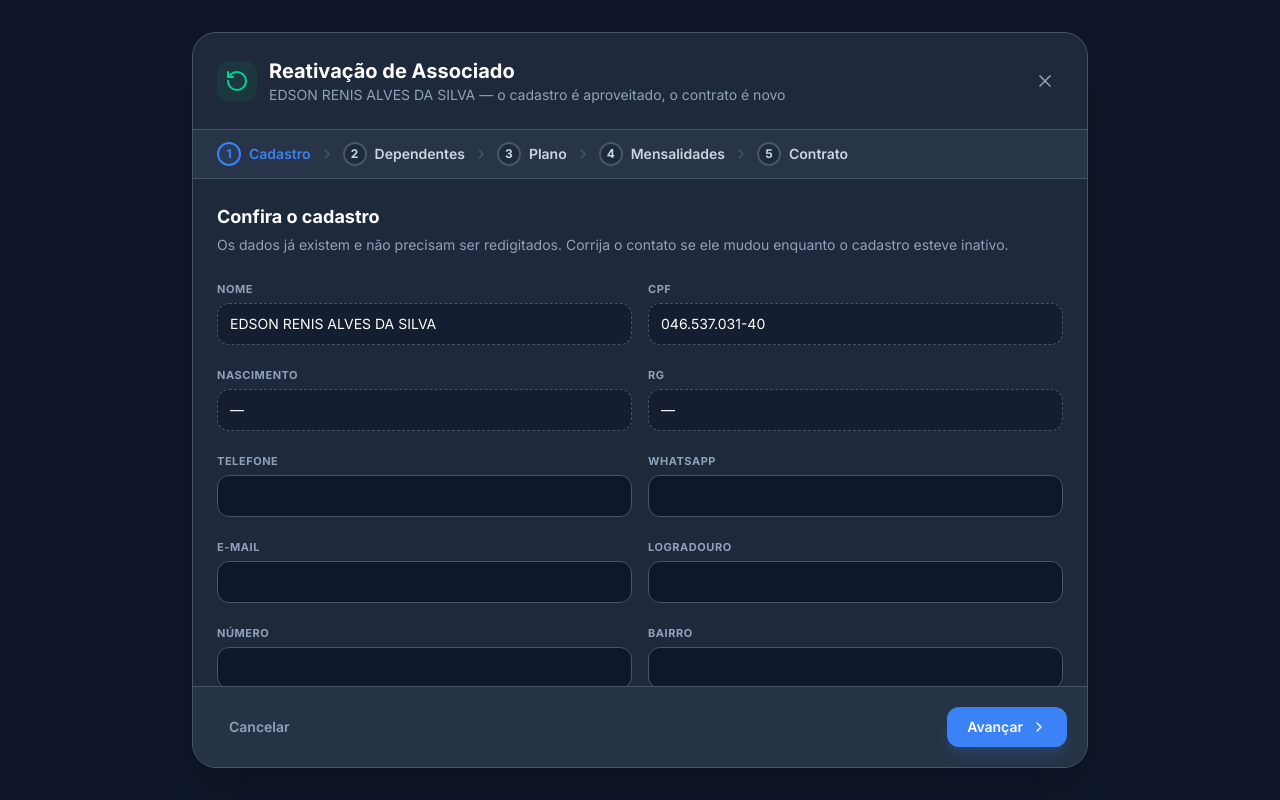
Test: ReativacaoAssociadoWizard — etapa de dependentes › inclui um dependente novo, que passa a contar como vida
Click the button "Avançar" at (1007, 727), box [947,707,1067,747]
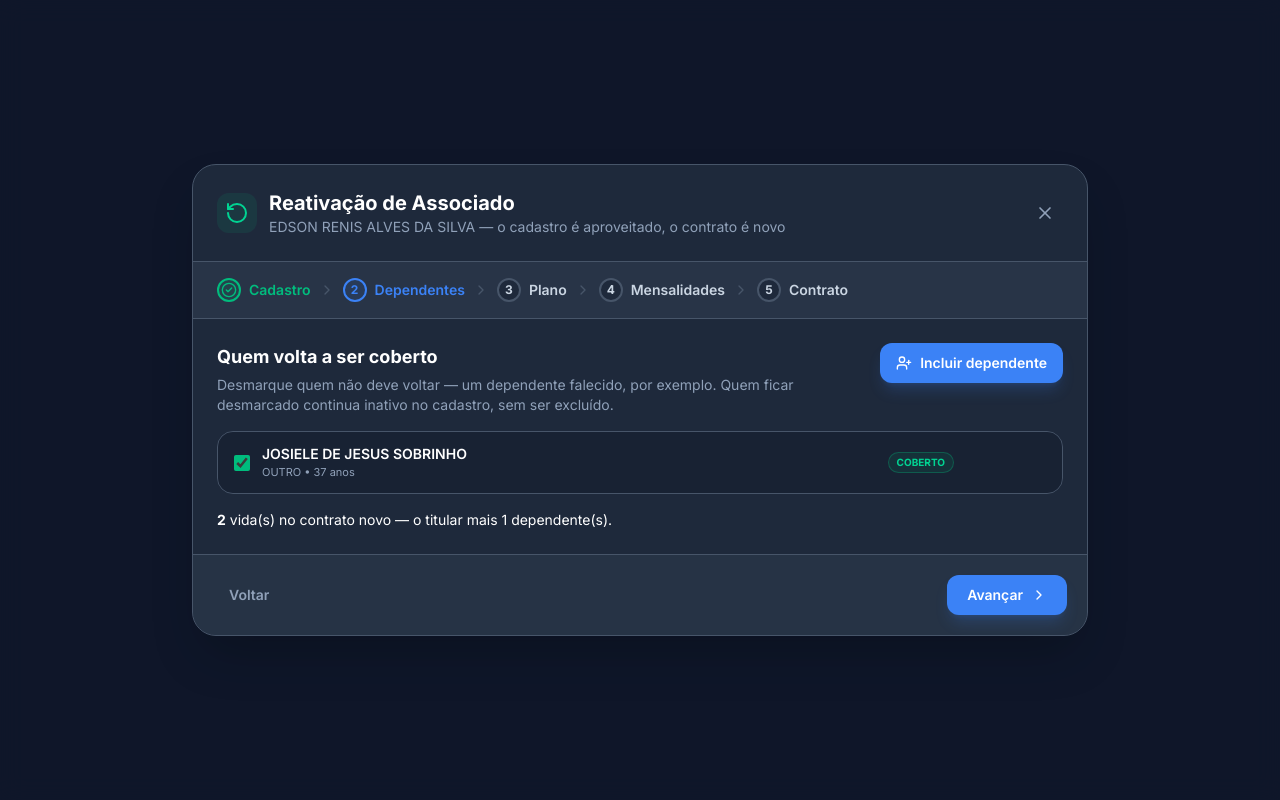
Click the button "Incluir dependente" at (972, 363), box [880,343,1063,383]
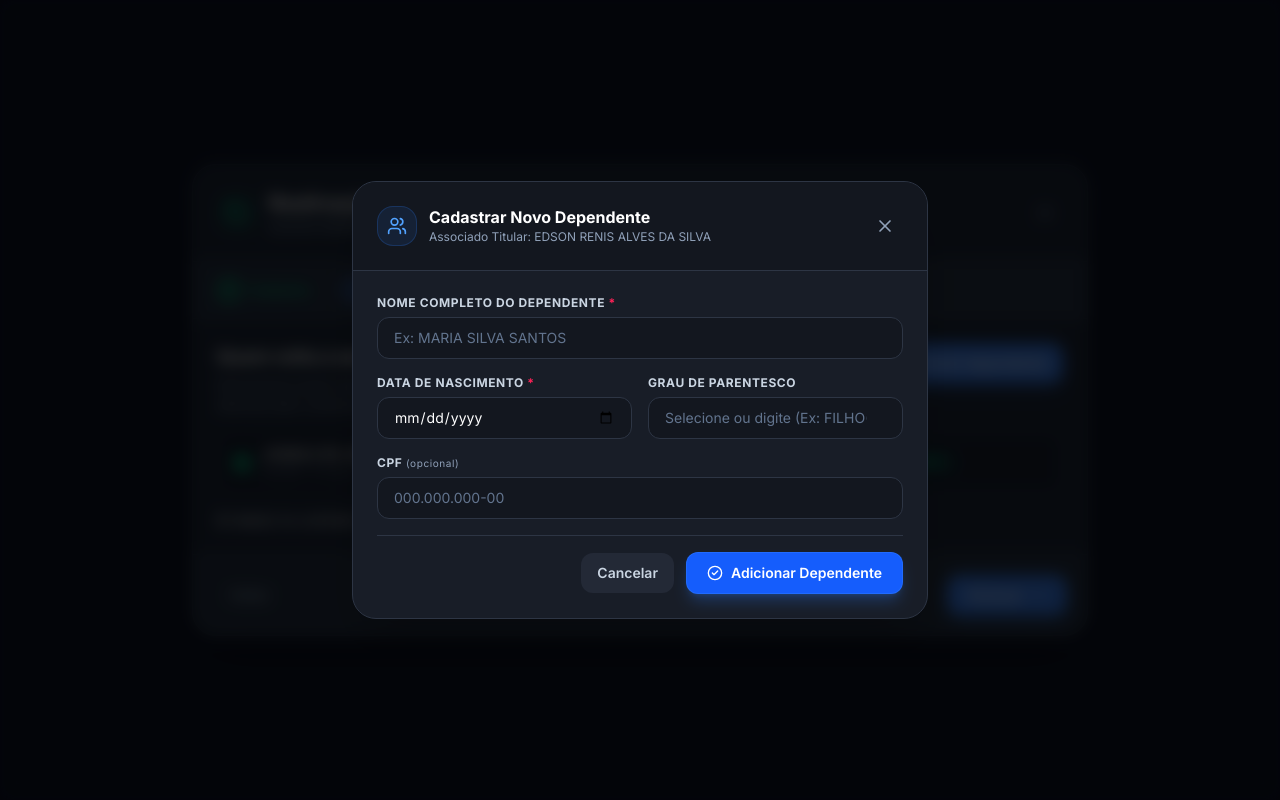
Type "ANA BEATRIZ NETA" into the field with placeholder "Ex: MARIA SILVA SANTOS" at (640, 338), box [377,317,903,359]
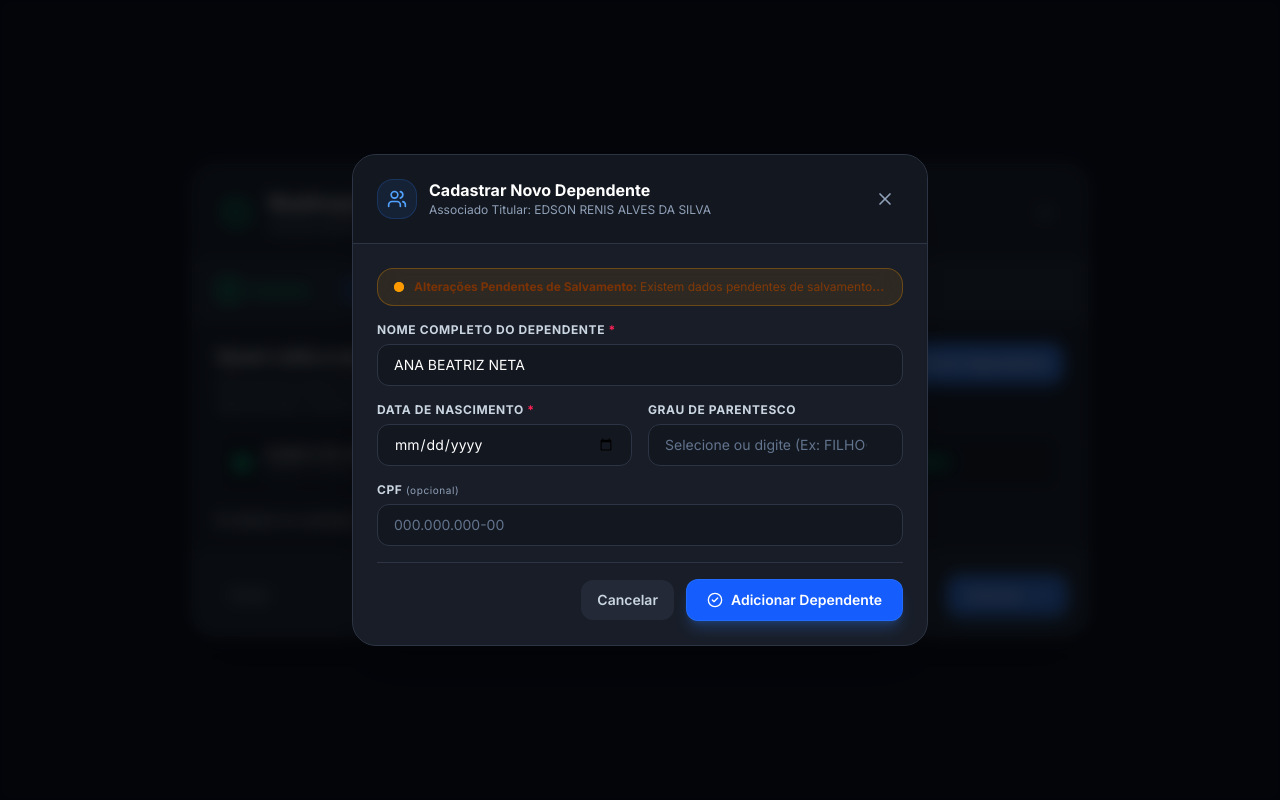
Type "2018-04-02" into the date field at (504, 445), box [377,424,632,466]
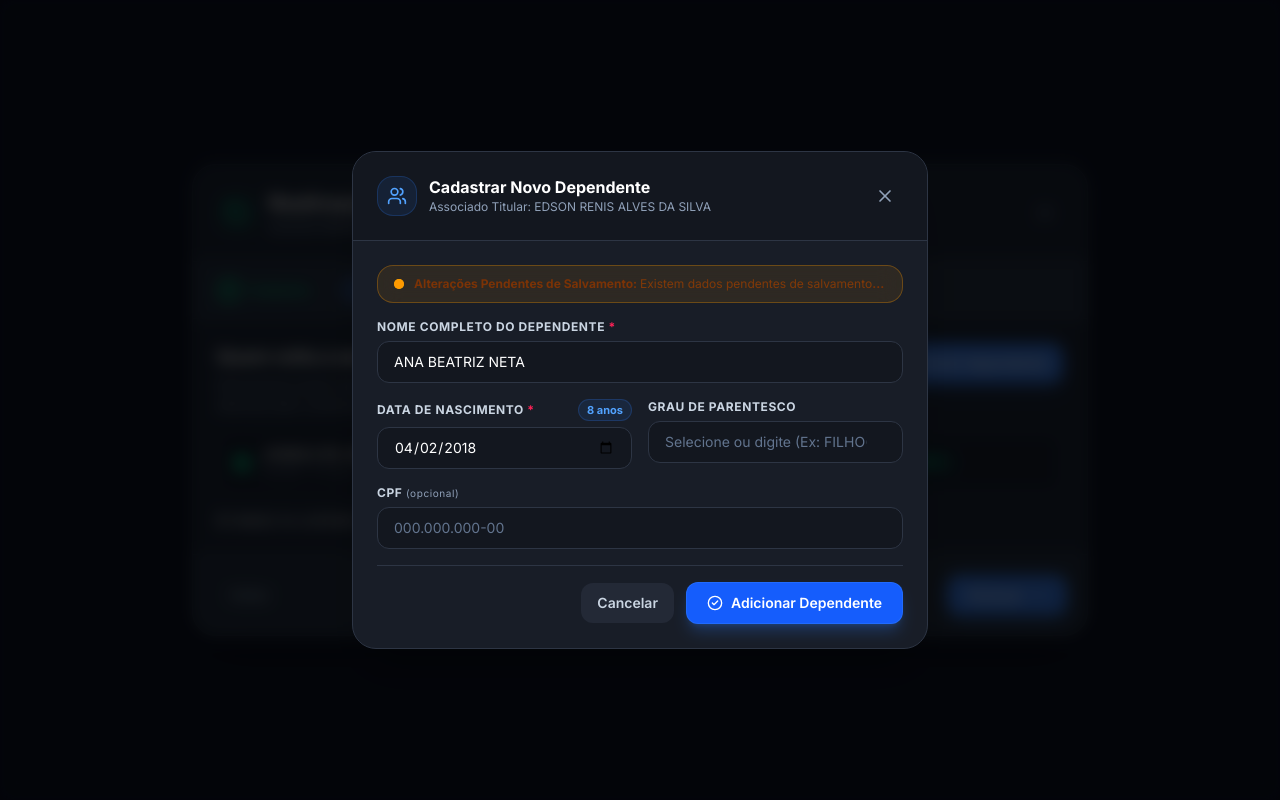
Type "NETO(A)" into the field with placeholder "Selecione ou digite (Ex: FILHO(A))" at (776, 442), box [648,421,903,463]
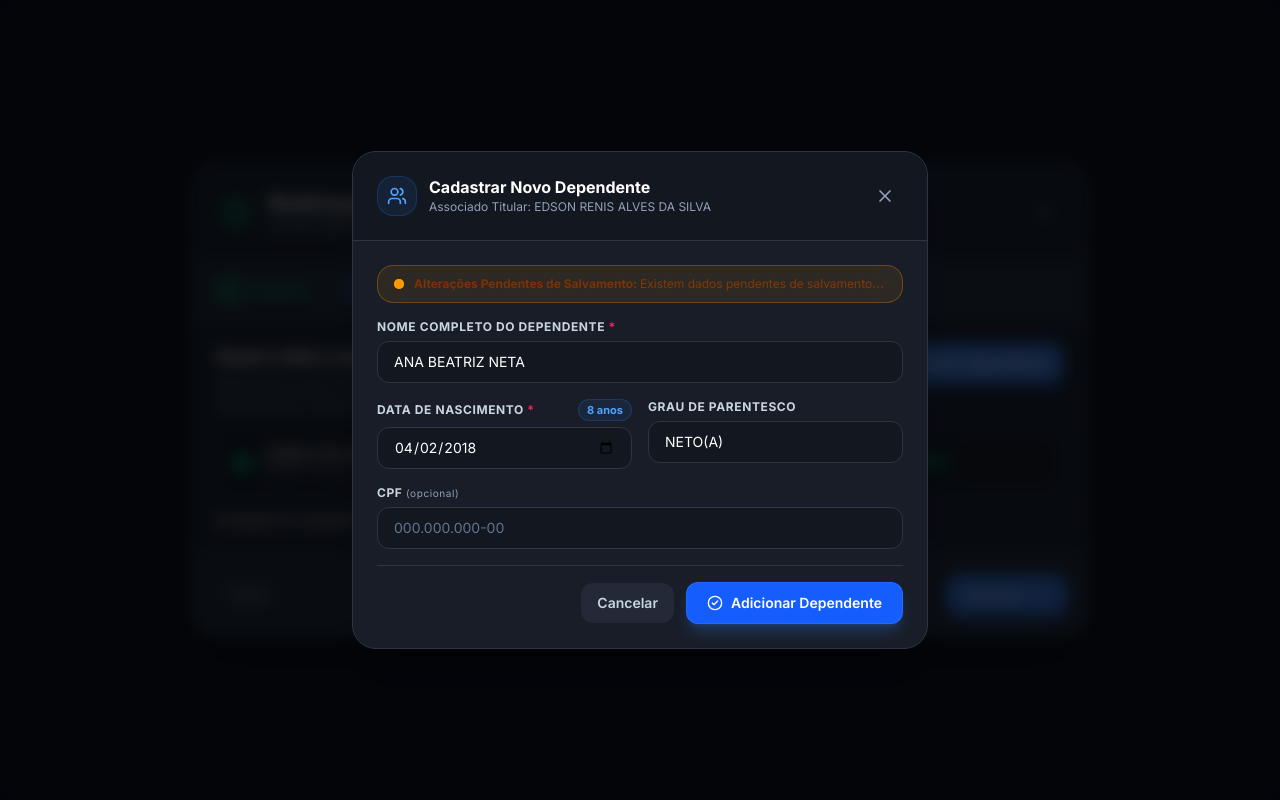
Click the button "Adicionar Dependente" at (794, 603), box [686,582,903,624]
Wait 1200 ms
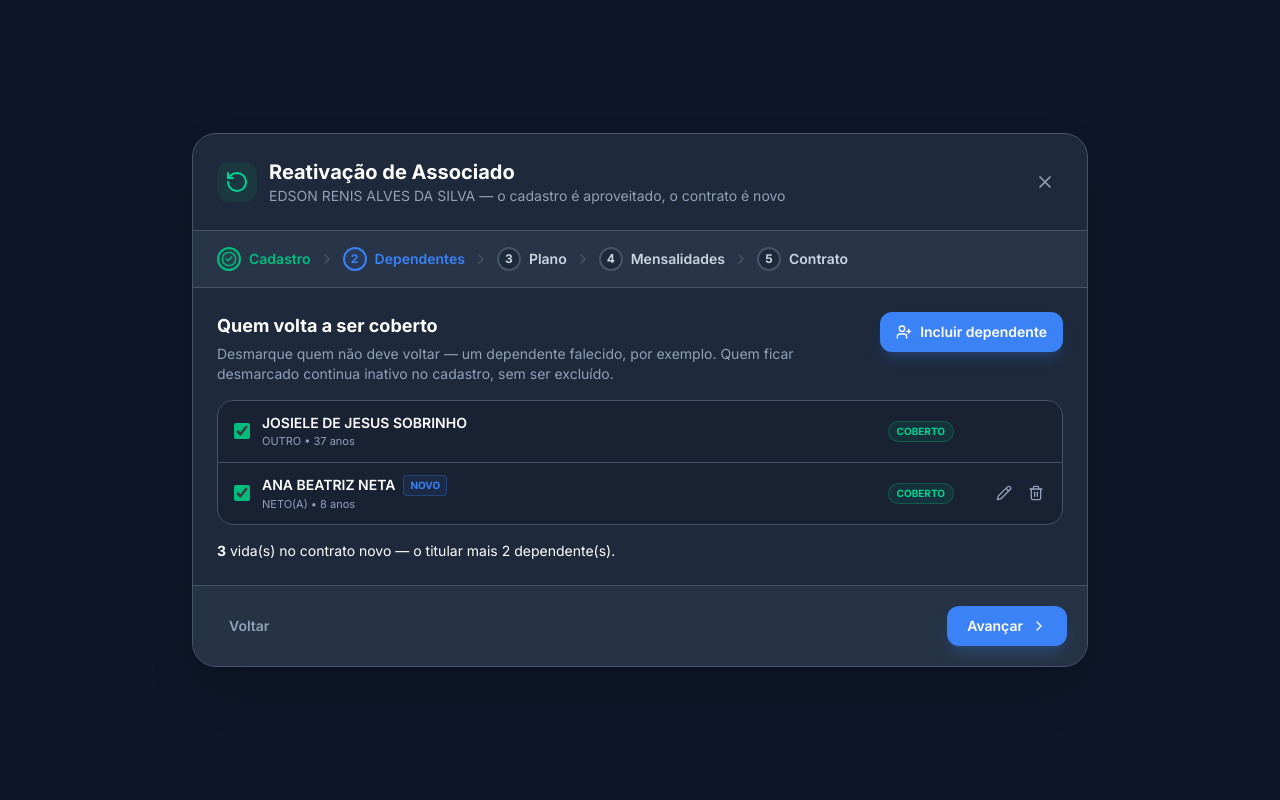
Result: the text "ANA BEATRIZ NETA" is shown at [262,475,395,495]
Result: the text "3 vida(s) no contrato novo" is shown at [217,542,615,559]
